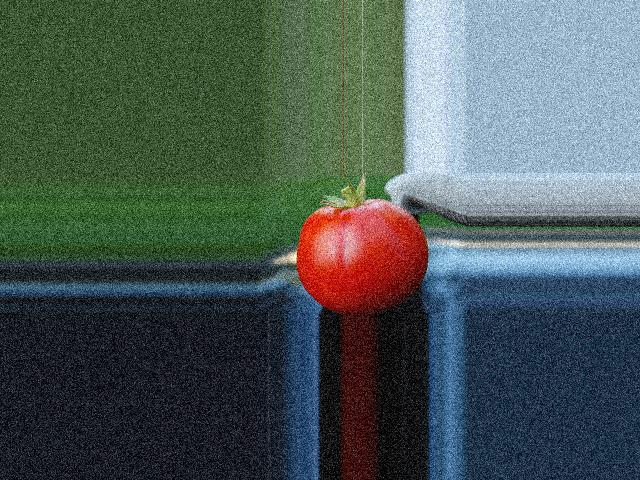tomato: (296, 199, 428, 314)
